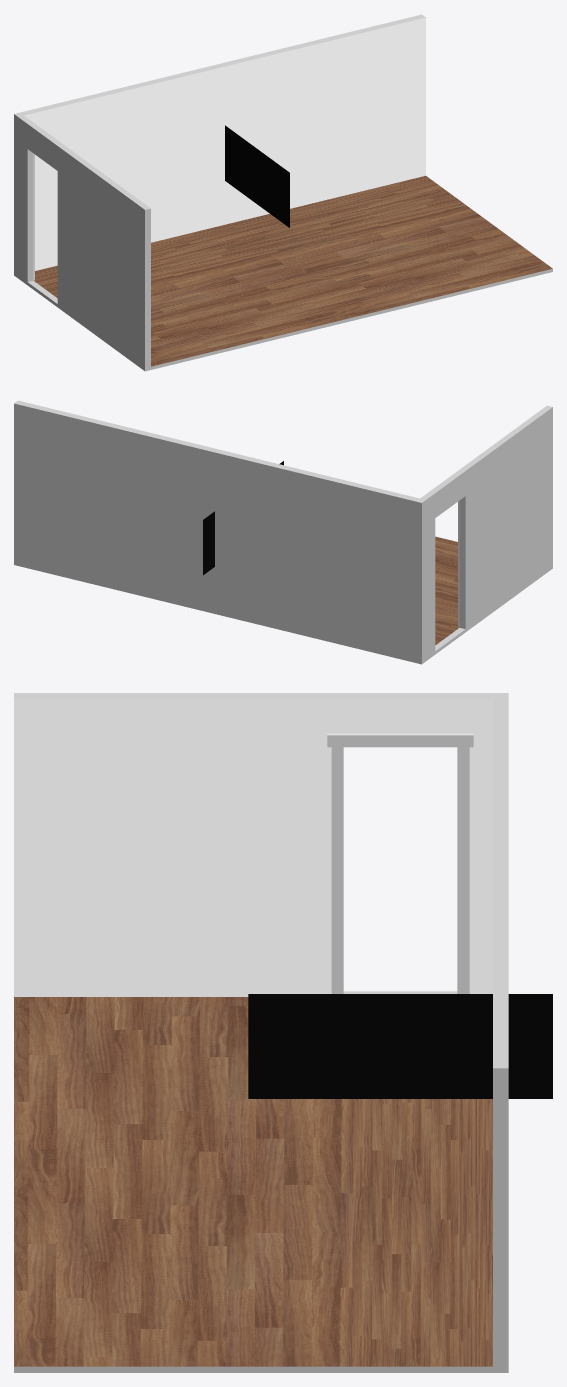
The model's file is Zroom 2 reference plane.glb.
3 views of the same model, one above another, from view 1: azimuth 30°, elevation 25°; view 2: azimuth 150°, elevation 25°; view 3: azimuth 270°, elevation 25° (orthographic). The views are drawn at different scales.
Visible parts, largest first — view 1: Cube; view 2: Cube; view 3: Cube.
Boxes of the visible parts, <box> form: Cube: <box>14,14,552,371</box>; Cube: <box>14,400,552,664</box>; Cube: <box>14,693,552,1372</box>.
Size of the model in its own units: 259 by 97.84 by 157.
Materials: 5 (1 with a texture image).
